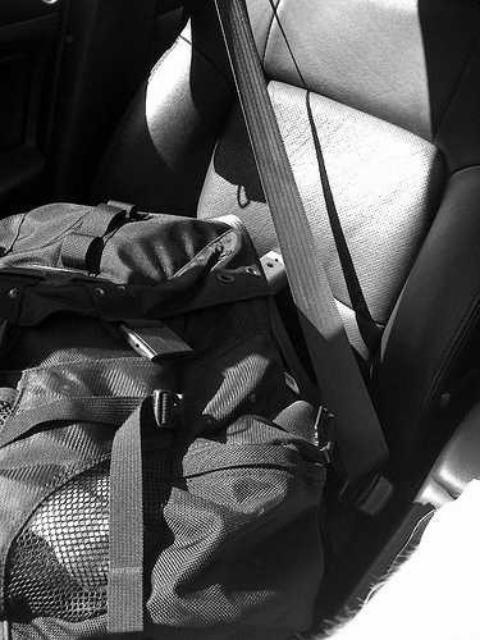Seatbelt: (204, 0, 392, 514)
